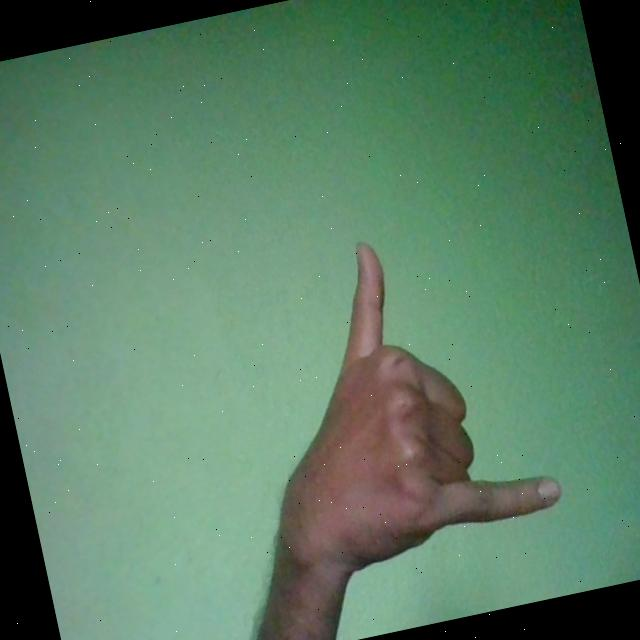Call Me: (221, 212, 569, 592)
